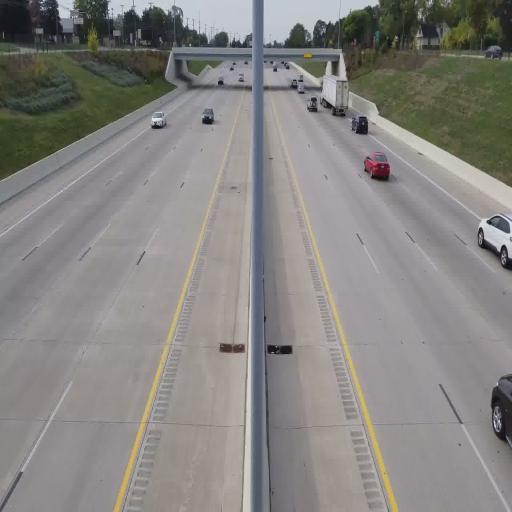Car: (477, 212, 512, 269), (490, 373, 512, 445), (364, 150, 390, 180), (350, 113, 368, 134), (485, 45, 503, 61), (151, 110, 166, 128), (201, 106, 214, 124), (218, 75, 224, 85)
Truck: (321, 74, 349, 116)
